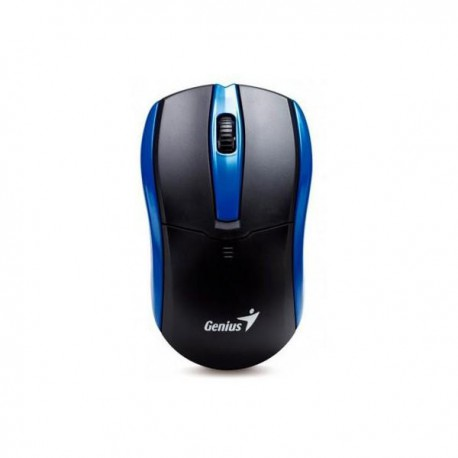Mouse: (138, 77, 315, 382)
